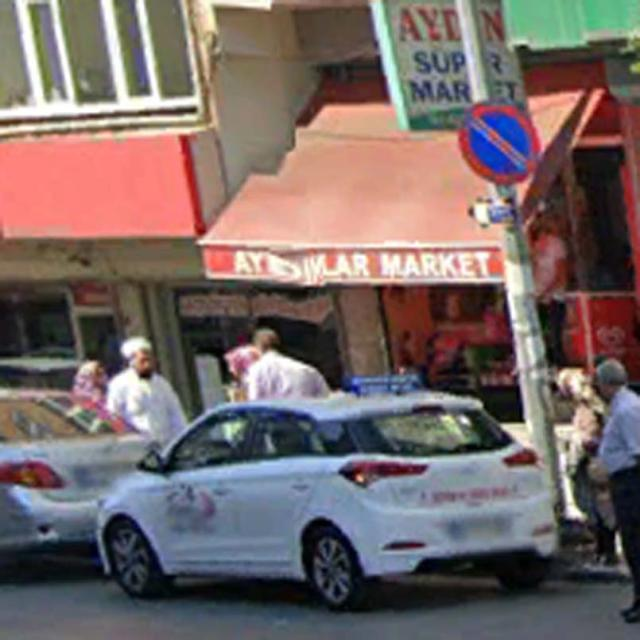parkyasak: (458, 103, 541, 182)
